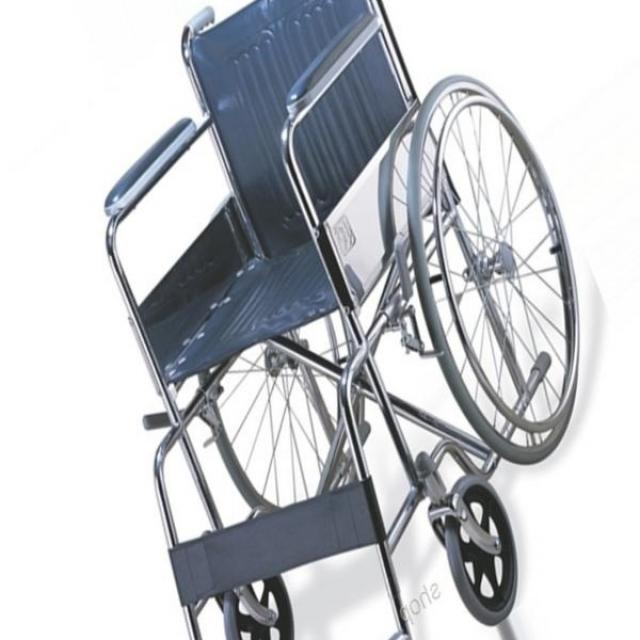wheelchair: (84, 0, 580, 640)
